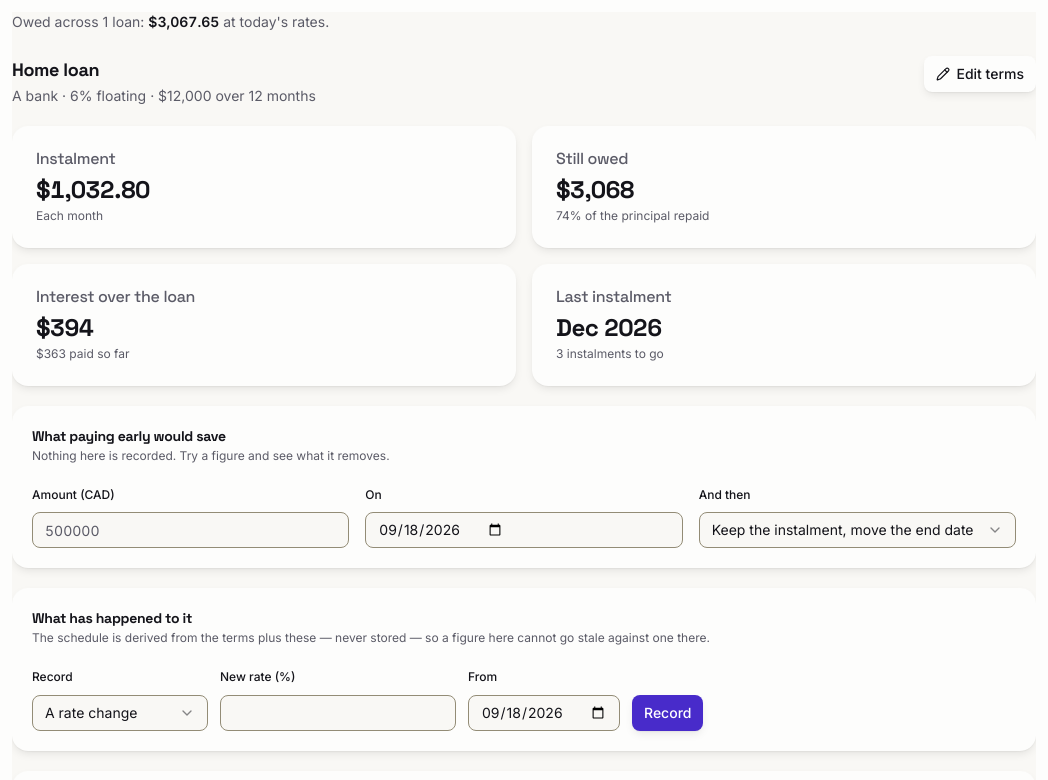
Test: what paying early would save › records nothing
Type "2000" into the field labelled "Amount (CAD)".
click(191, 530); type("2000")  # box [32, 512, 349, 548]
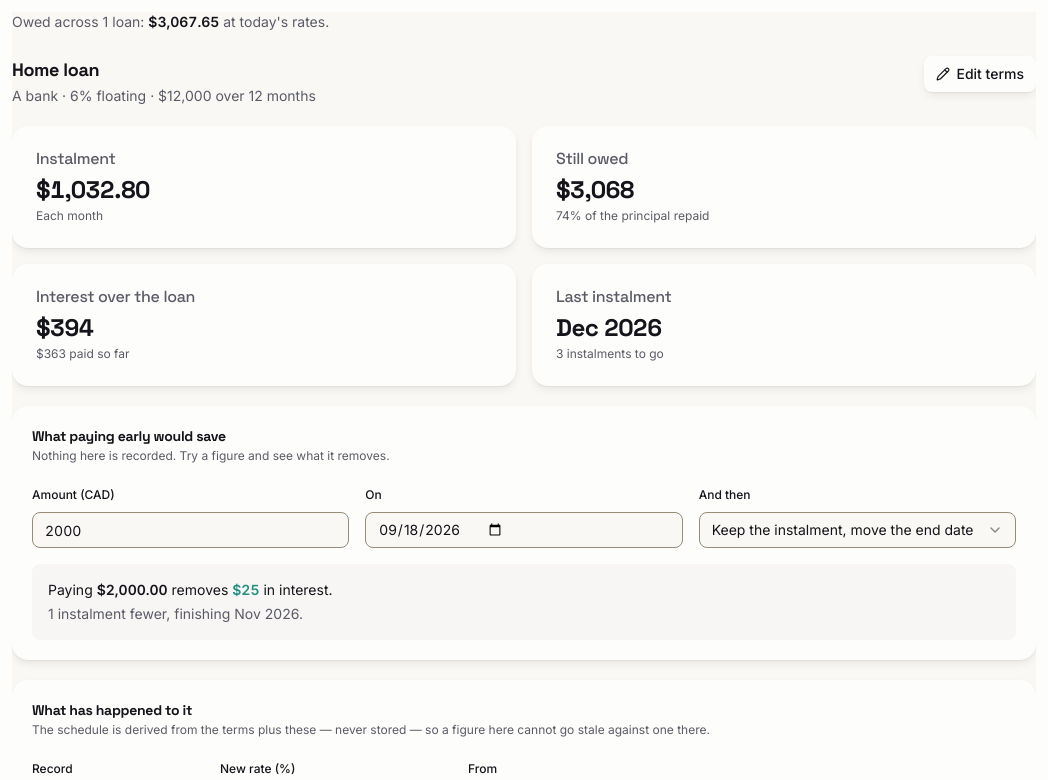
Expected: the text "1 instalment fewer, finishing Nov 2026." is shown, [48, 605, 303, 622]
